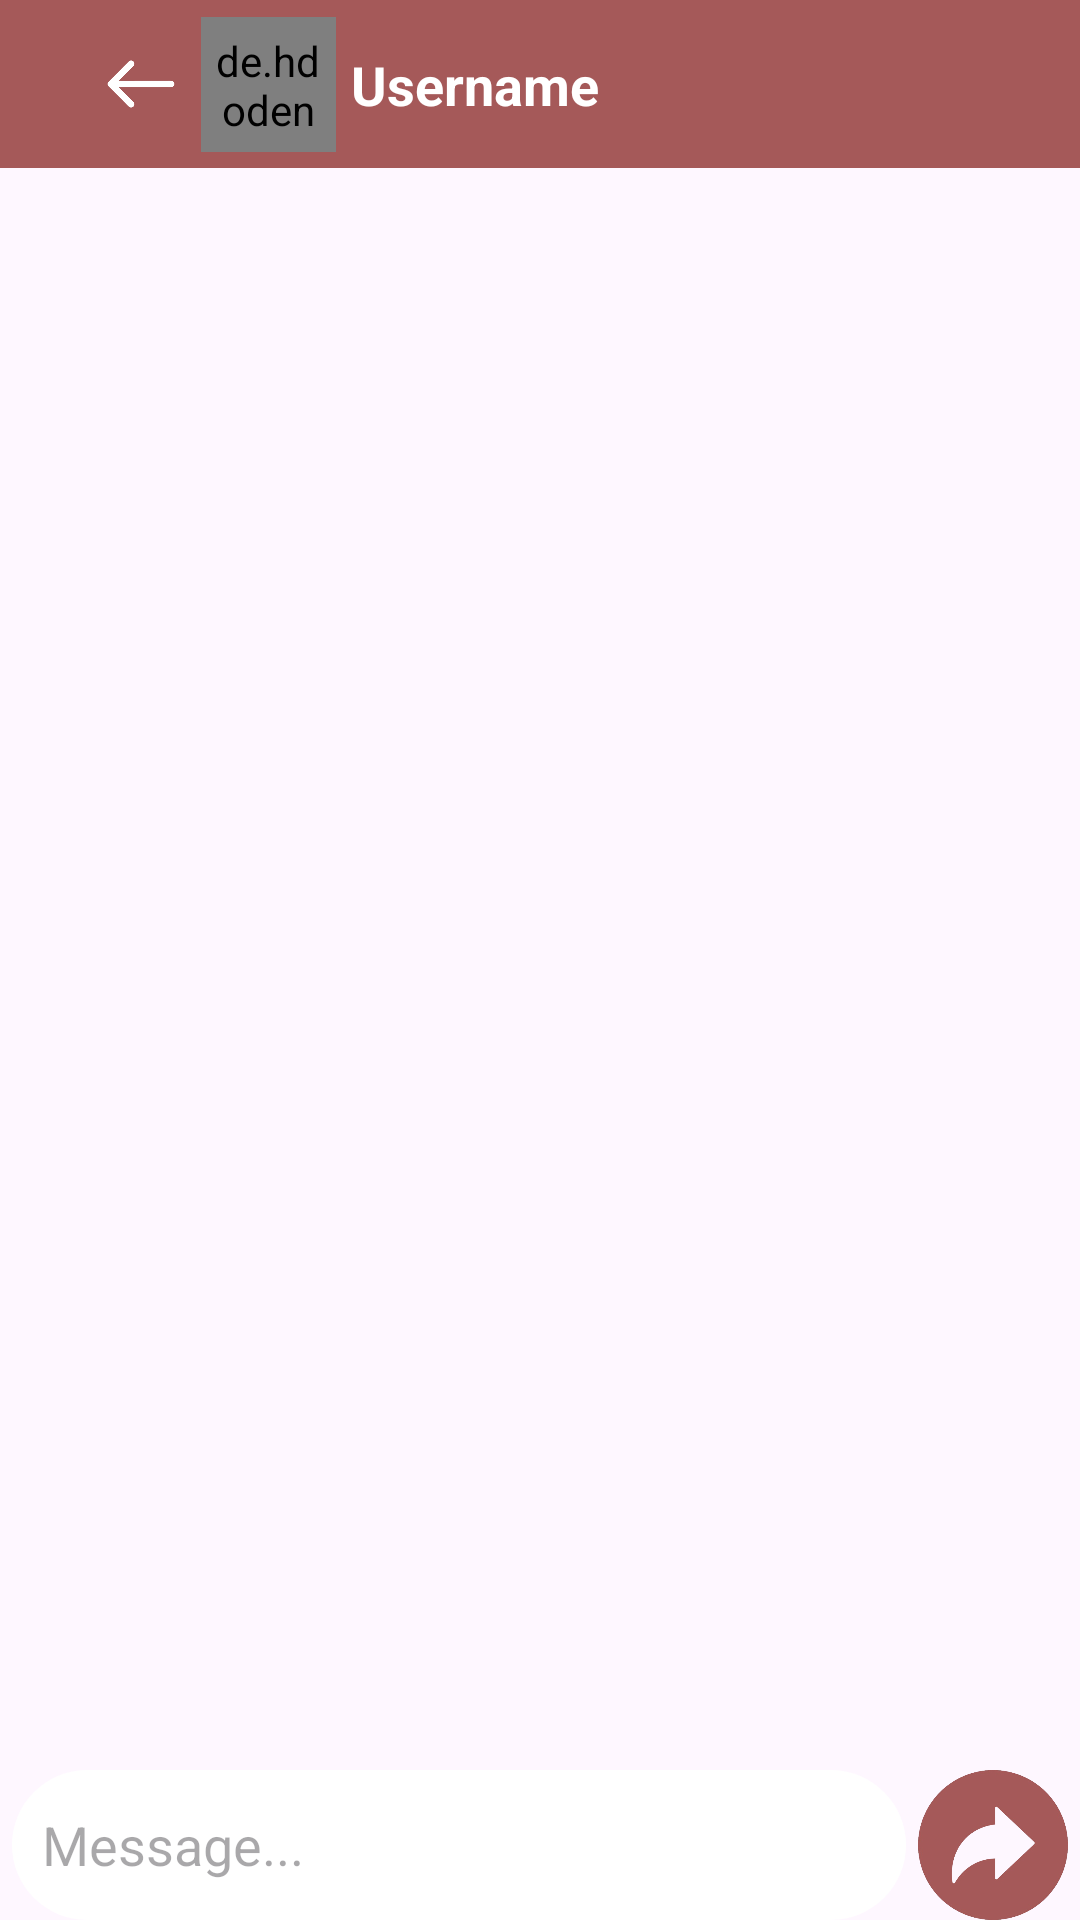

Icons on this 1080×1920 Android screen, each with the point to tap as [x,y]:
leftarrowwhite: [141,84]
share: [993,1845]
